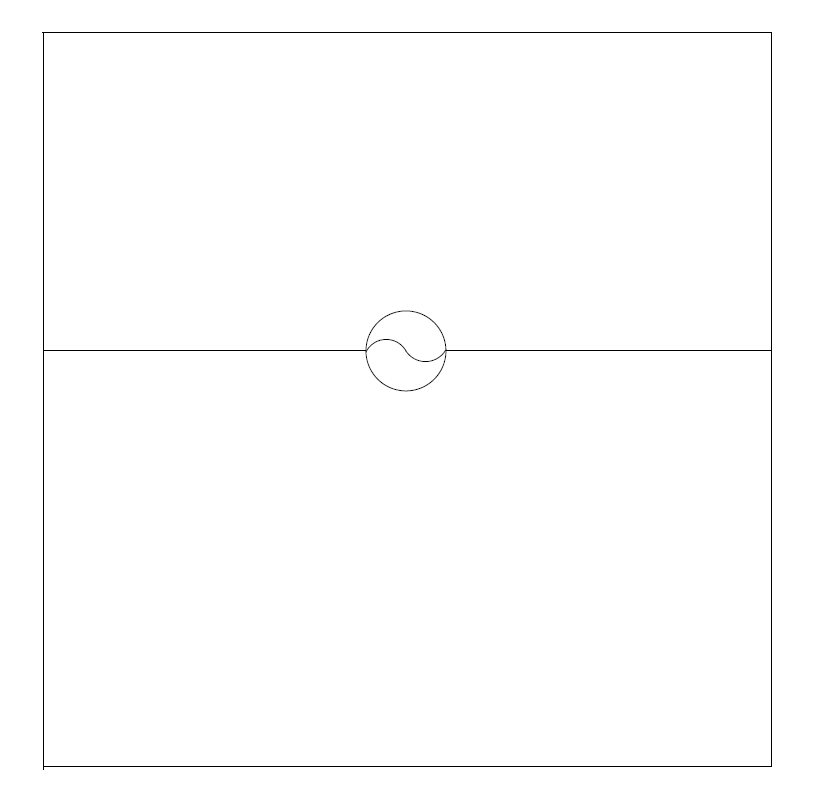GEN: (355, 306, 462, 401)
